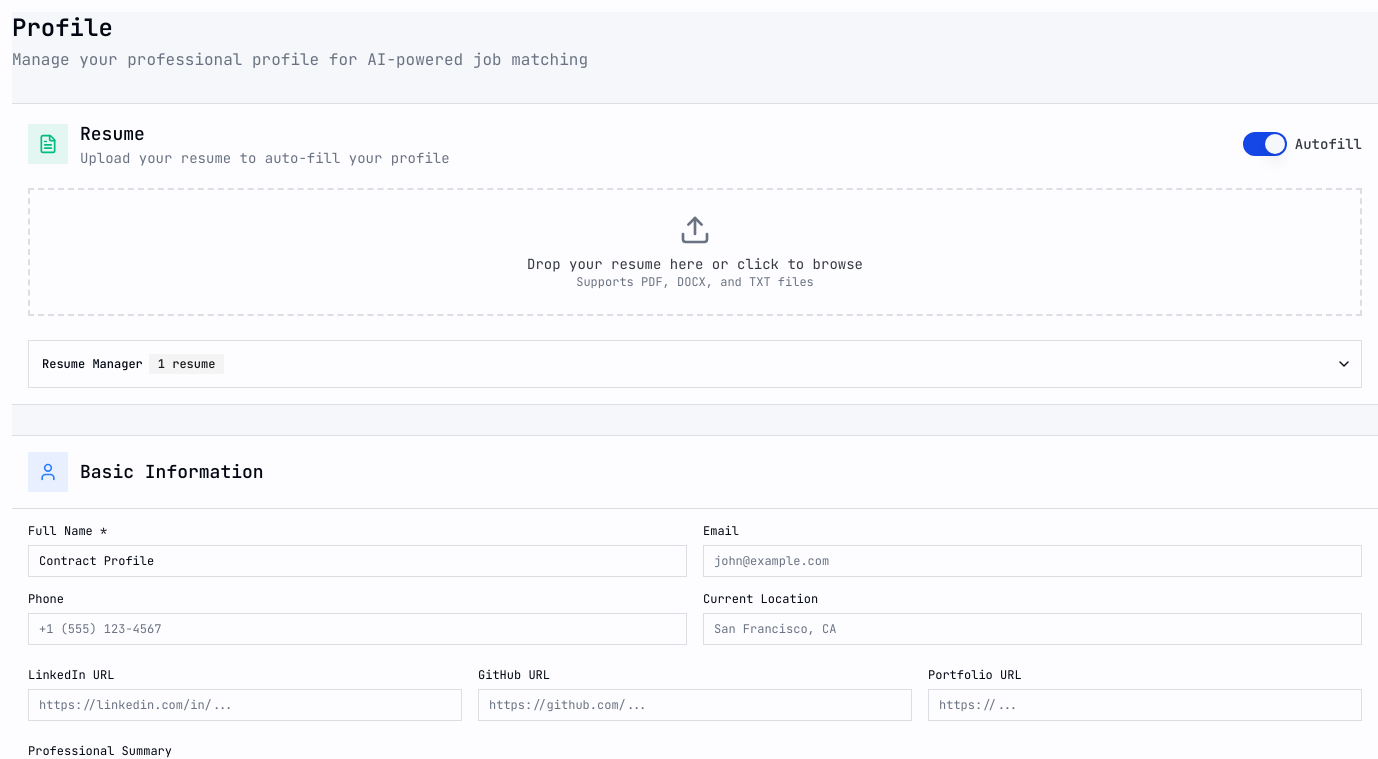
contract-shaped frontend resources › renders the complete canonical profile and child resources
Expected: the field showing "Contract Profile" is shown, [28,545,687,577]
Expected: the text "resume.pdf" is not shown
Step 1. Click the button with aria-label "Resume Manager, 1 resume" → (92, 364), box [29,341,1361,387]
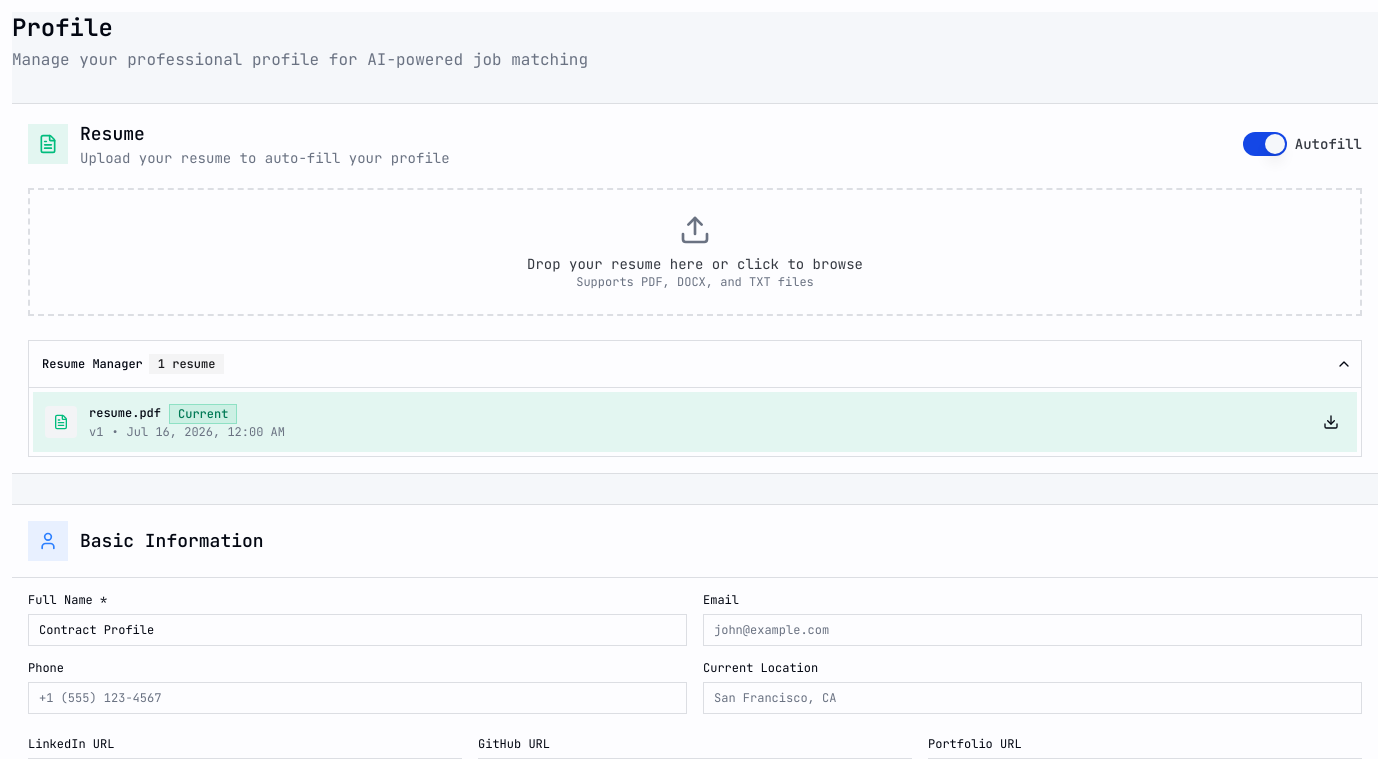
Expected: the text "resume.pdf" is shown, [89,404,161,424]
